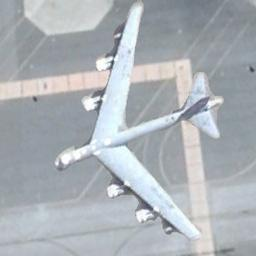Airplane: (53, 0, 219, 245)
